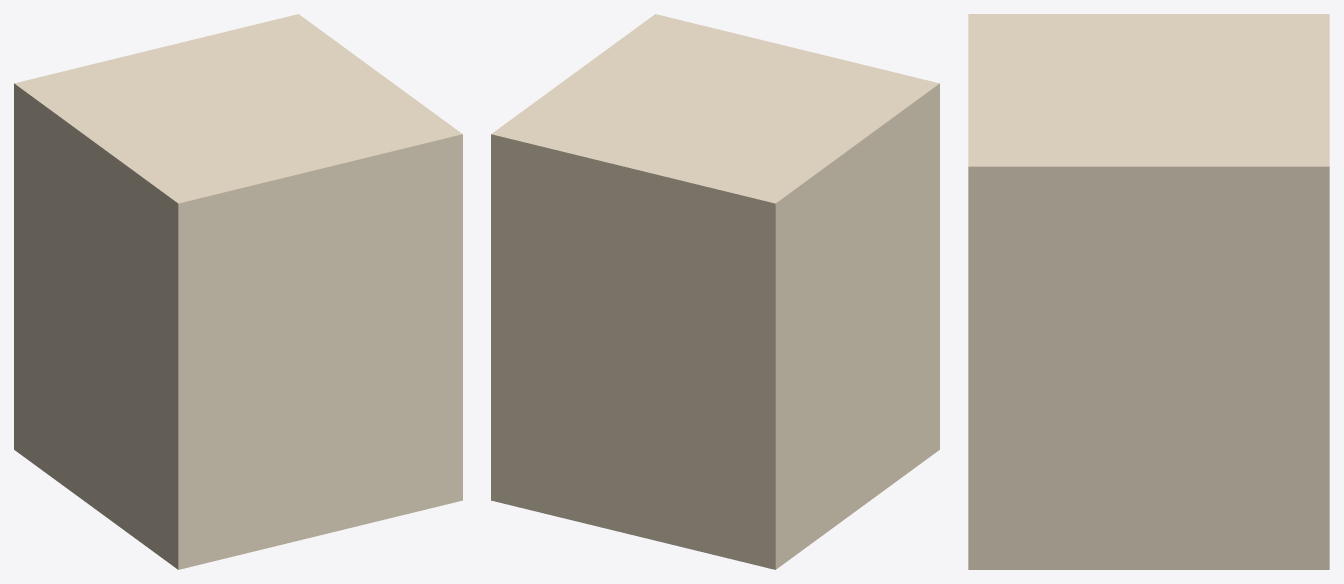
The picture shows the model from 3 angles, left to right: view 1: azimuth 30°, elevation 25°; view 2: azimuth 150°, elevation 25°; view 3: azimuth 270°, elevation 25°; orthographic projection. The views are drawn at different scales.
Parts seen in each view (by area): view 1: Display plinth; view 2: Display plinth; view 3: Display plinth.
Part boxes in pixels (<box>): Display plinth: <box>14,14,462,569</box>; Display plinth: <box>491,14,939,569</box>; Display plinth: <box>968,14,1329,569</box>.
Size of the model in its own units: 65 by 80 by 65.
